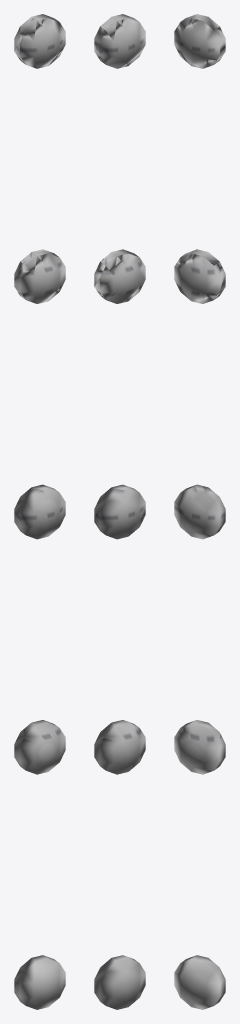
The model's file is UpperTorso_C2.fbx.
3 renders of one model, left to right at view 1: azimuth 30°, elevation 25°; view 2: azimuth 210°, elevation 25°; view 3: azimuth 330°, elevation 25°, orthographic.
Visible parts, largest first — view 1: Civ_CamperaJean_UpperTorso_C2; view 2: Civ_CamperaJean_UpperTorso_C2; view 3: Civ_CamperaJean_UpperTorso_C2.
Part boxes in pixels (box(x1,y1,x2,y2)): Civ_CamperaJean_UpperTorso_C2: box(14, 14, 65, 1009); Civ_CamperaJean_UpperTorso_C2: box(94, 14, 145, 1009); Civ_CamperaJean_UpperTorso_C2: box(174, 14, 225, 1009).
Size of the model in its own units: 0.0686 by 1.43 by 0.0418.
